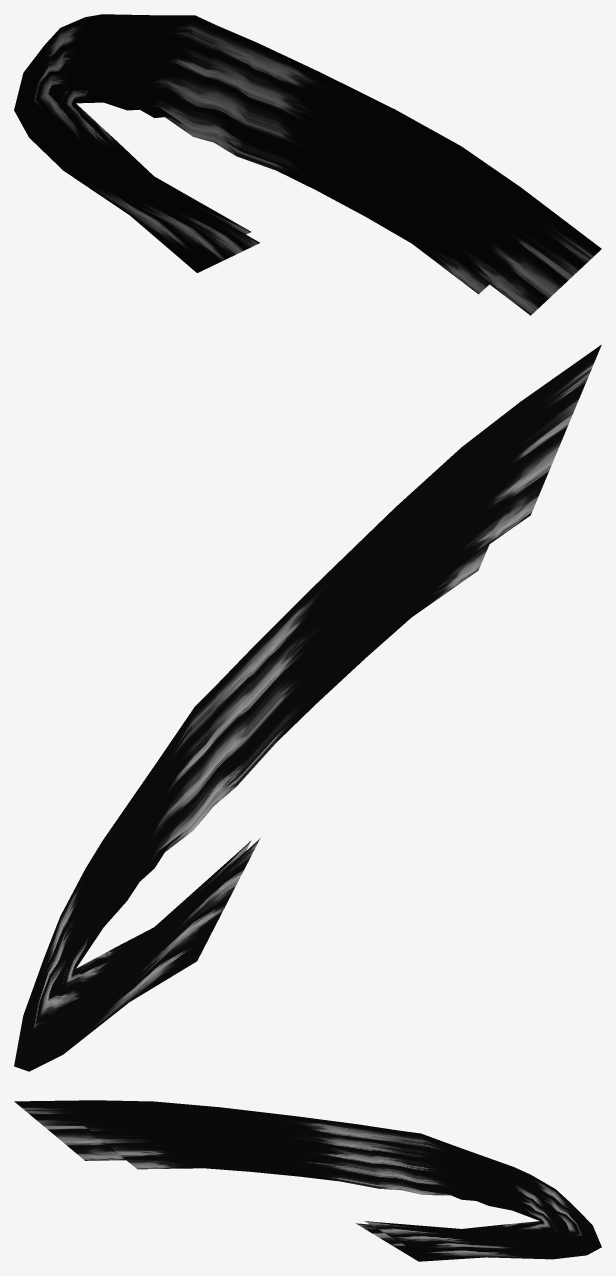
The model's file is zhuan_E_model6_2.FBX.
3 views of the same model, one above another, from view 1: azimuth 30°, elevation 25°; view 2: azimuth 150°, elevation 25°; view 3: azimuth 270°, elevation 25° (orthographic). The views are drawn at different scales.
Parts seen in each view (by area): view 1: SMDImport; view 2: SMDImport; view 3: SMDImport.
Boxes of the visible parts, <box> form: SMDImport: <box>14,14,601,315</box>; SMDImport: <box>14,344,601,1071</box>; SMDImport: <box>14,1100,601,1261</box>.
Bounding box in the file's own units: 0.0017 × 71.3 × 235.
